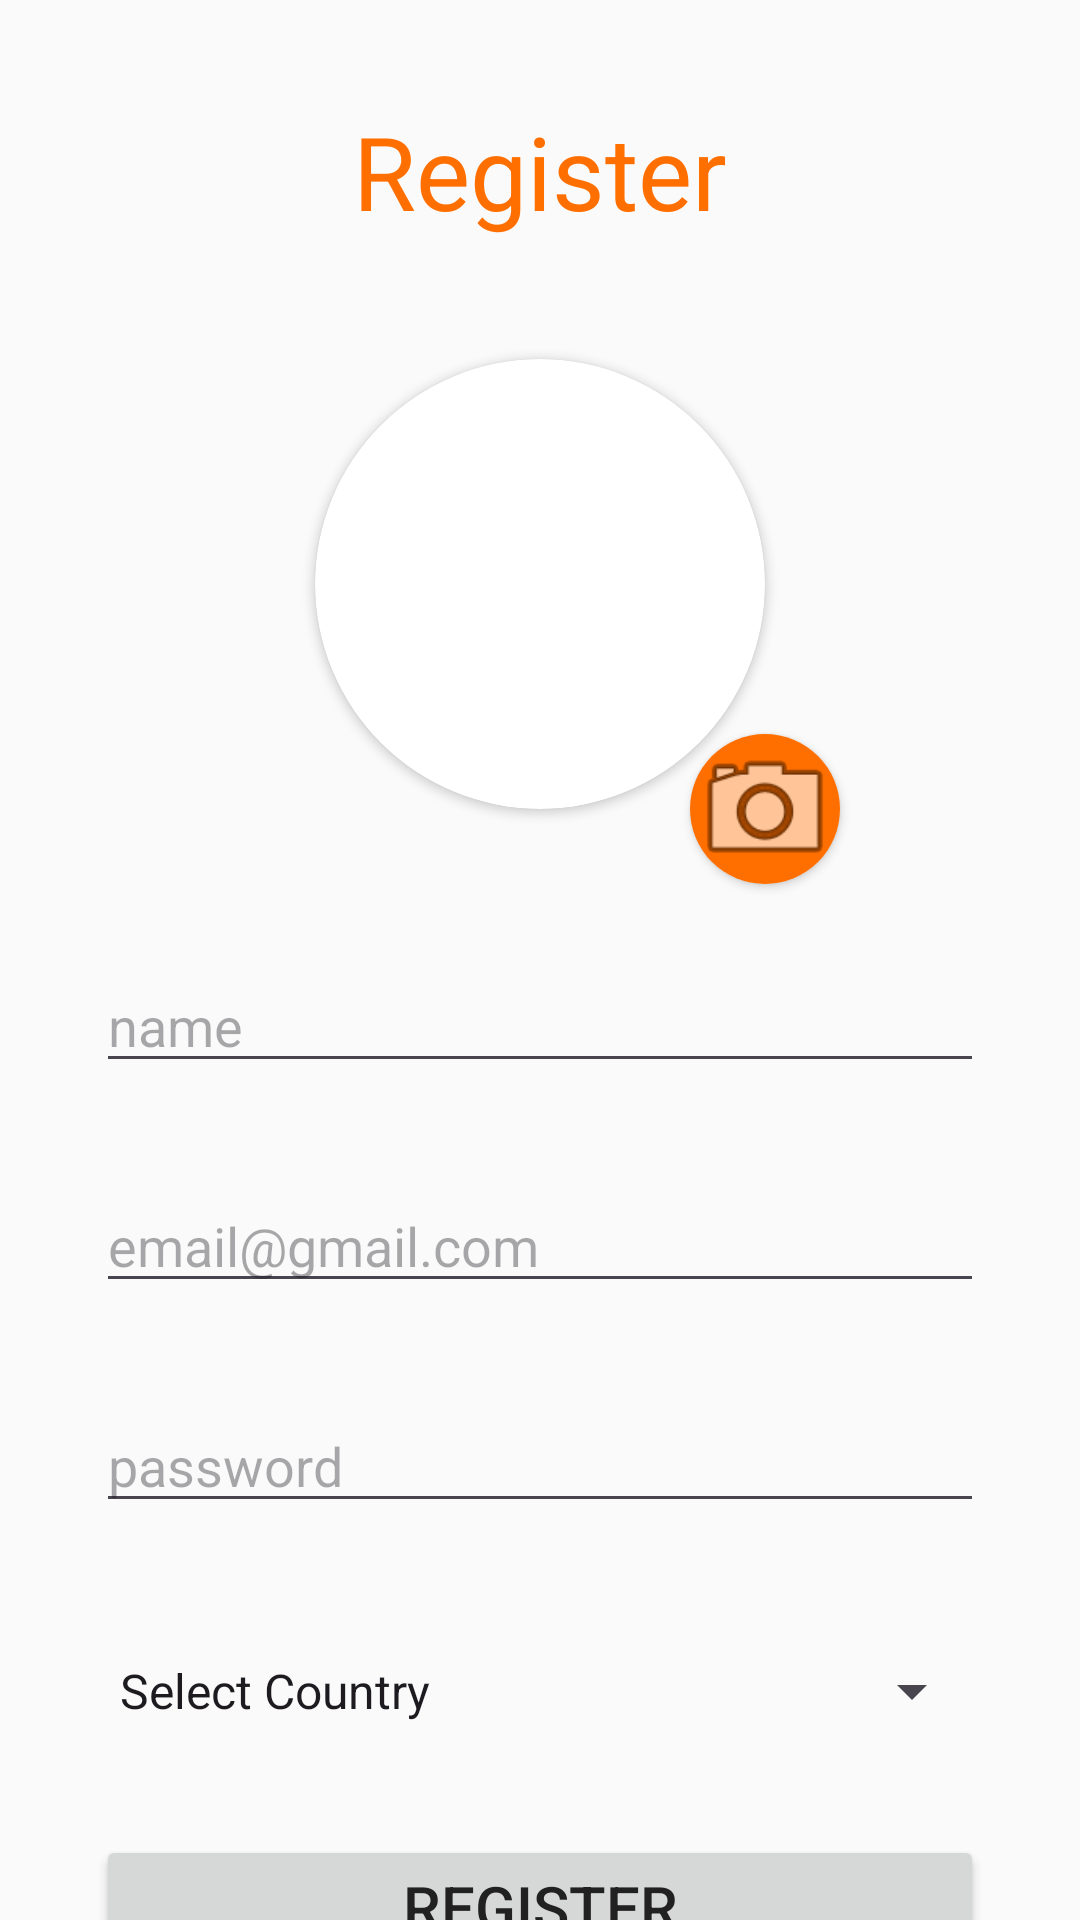

Icons on this 1080x1920 Android screen, each with its box as (x1, y1, x2, y2):
camera: (690, 734, 840, 884)
